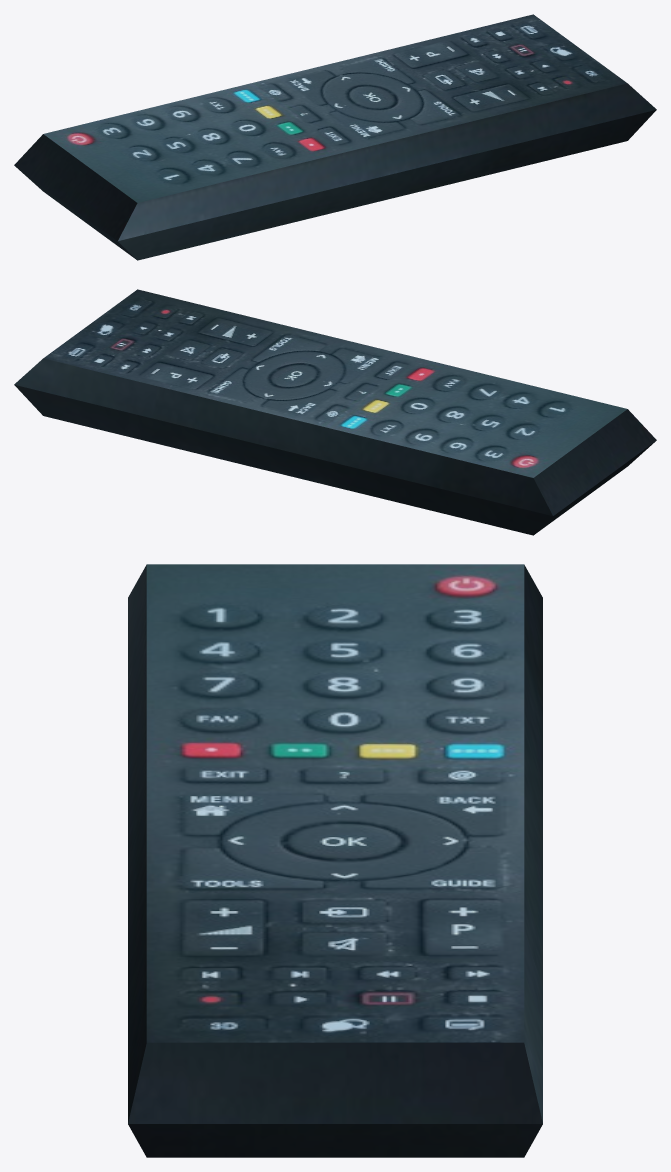
Rendered from Kumanda.fbx.
The picture shows the model from 3 angles, top to bottom: view 1: azimuth 30°, elevation 25°; view 2: azimuth 150°, elevation 25°; view 3: azimuth 270°, elevation 25°; orthographic projection. The views are drawn at different scales.
Visible parts, largest first — view 1: Cube; view 2: Cube; view 3: Cube.
Boxes of the visible parts, left/top/right/bottom form: Cube: left=14, top=14, right=656, bottom=260; Cube: left=14, top=289, right=656, bottom=535; Cube: left=128, top=564, right=542, bottom=1157.
Size of the model in its own units: 660 by 67.33 by 220.
